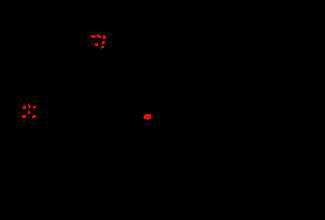Target: (143, 114, 151, 120), (97, 34, 101, 38), (22, 105, 26, 109), (91, 35, 96, 38), (103, 35, 106, 39), (28, 104, 31, 108), (22, 115, 26, 118), (32, 115, 36, 118), (102, 41, 105, 44), (95, 43, 98, 46), (101, 46, 104, 49), (33, 106, 36, 109), (28, 111, 31, 114)
